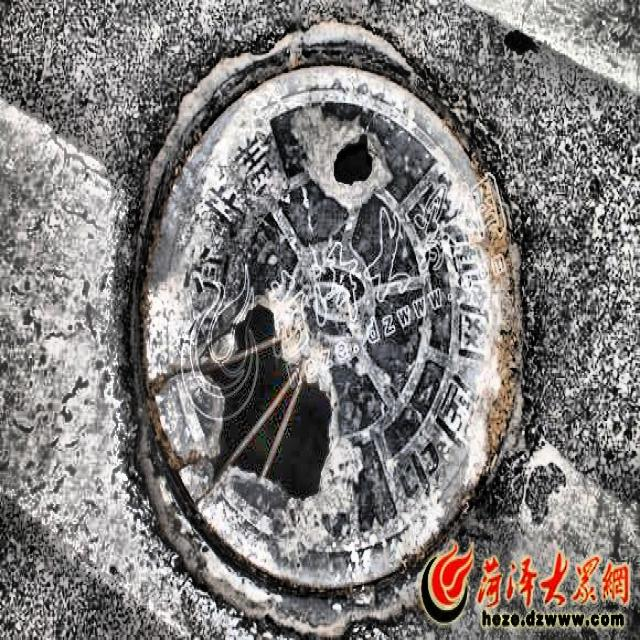open_manhole: (131, 25, 521, 633)
